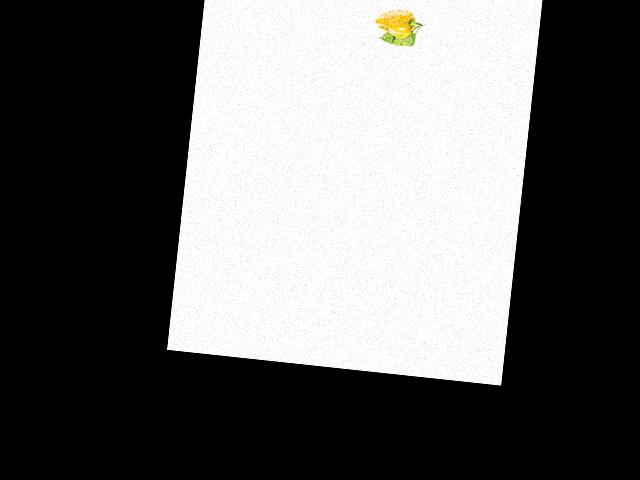bell_pepper: (372, 4, 425, 41)
